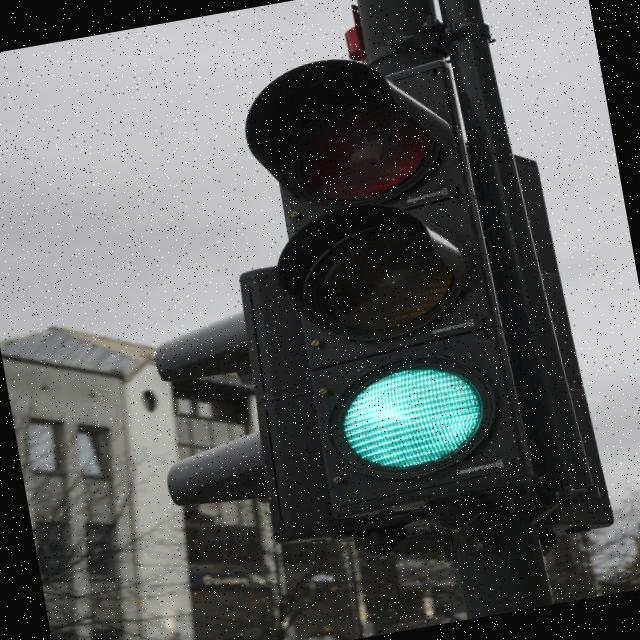Zielone swiatlo: (243, 46, 537, 513)
